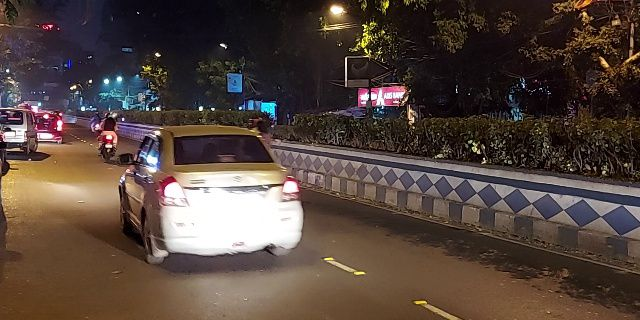Car: (135, 129, 309, 265)
Motorbike: (90, 110, 118, 160)
